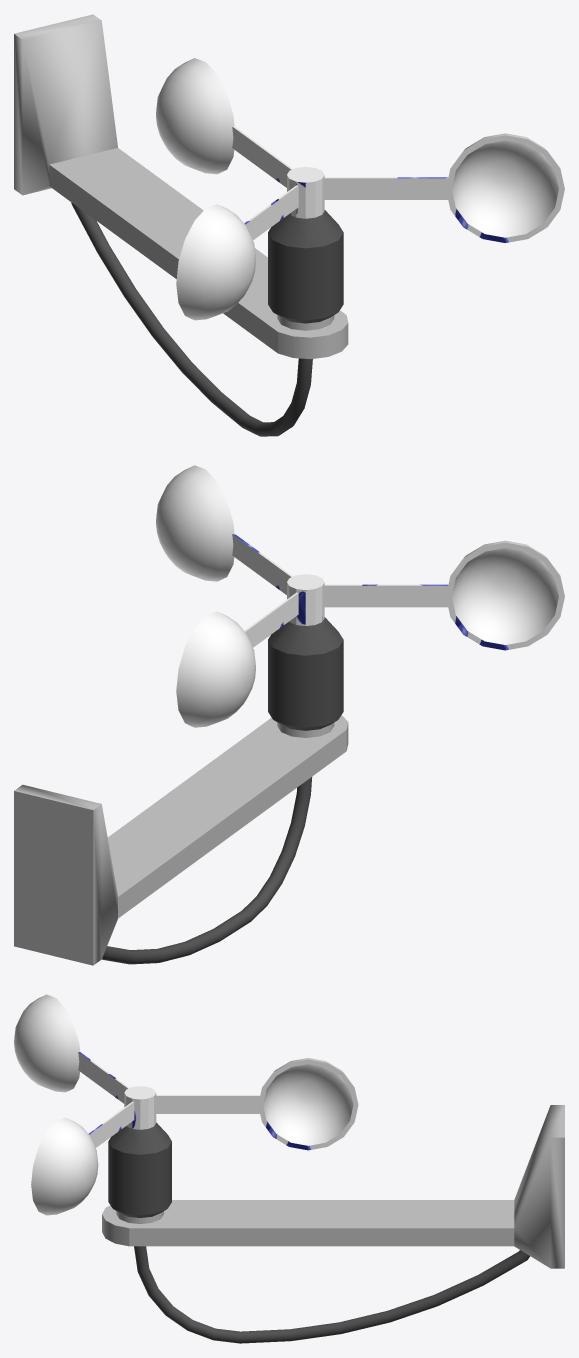
File: anemometer.dae
3 views of the same model, one above another, from view 1: azimuth 30°, elevation 25°; view 2: azimuth 150°, elevation 25°; view 3: azimuth 270°, elevation 25° (orthographic). The views are drawn at different scales.
Visible parts, largest first — view 1: mount (×2), anemometer (×2), wire; view 2: mount (×2), anemometer (×2), wire; view 3: mount (×2), anemometer (×2), wire.
Part boxes in pixels (left/top/right/bottom): mount (×2): left=14, top=14, right=348, bottom=359; anemometer (×2): left=156, top=58, right=564, bottom=320; wire: left=71, top=202, right=312, bottom=436; mount (×2): left=14, top=617, right=348, bottom=965; anemometer (×2): left=156, top=465, right=564, bottom=727; wire: left=102, top=777, right=312, bottom=964; mount (×2): left=102, top=1105, right=564, bottom=1268; anemometer (×2): left=14, top=994, right=358, bottom=1215; wire: left=134, top=1246, right=529, bottom=1343.
Size of the model in its own units: 25.21 by 36.49 by 20.72.
